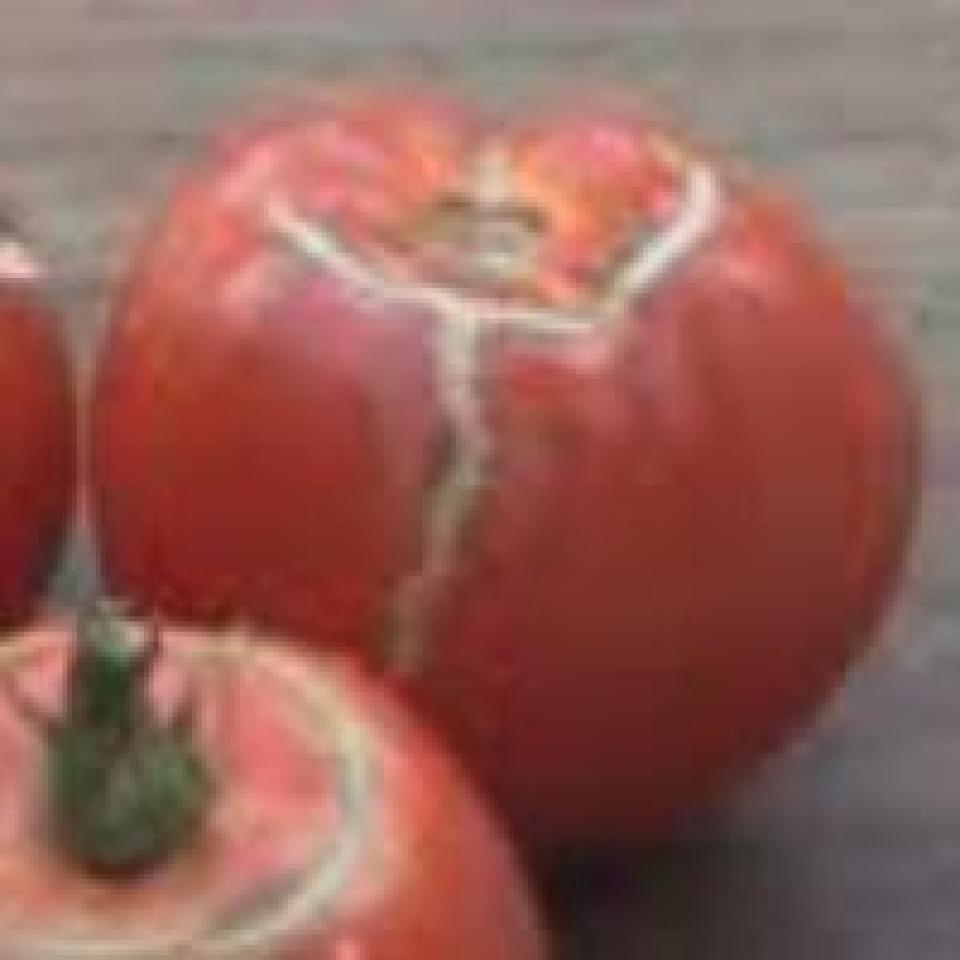Cracking: (203, 115, 727, 722), (0, 626, 398, 954)
